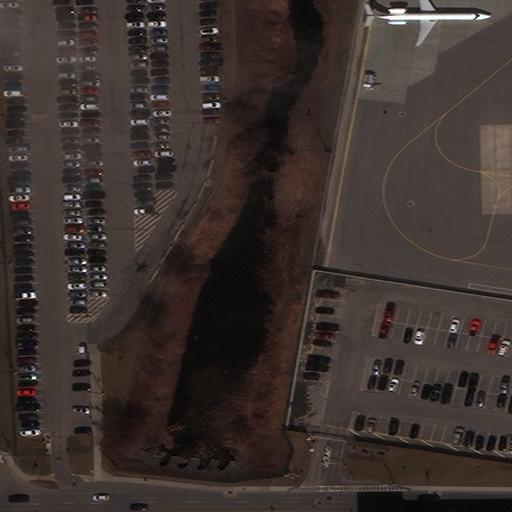Medium Civil Transport: (365, 0, 490, 46)
